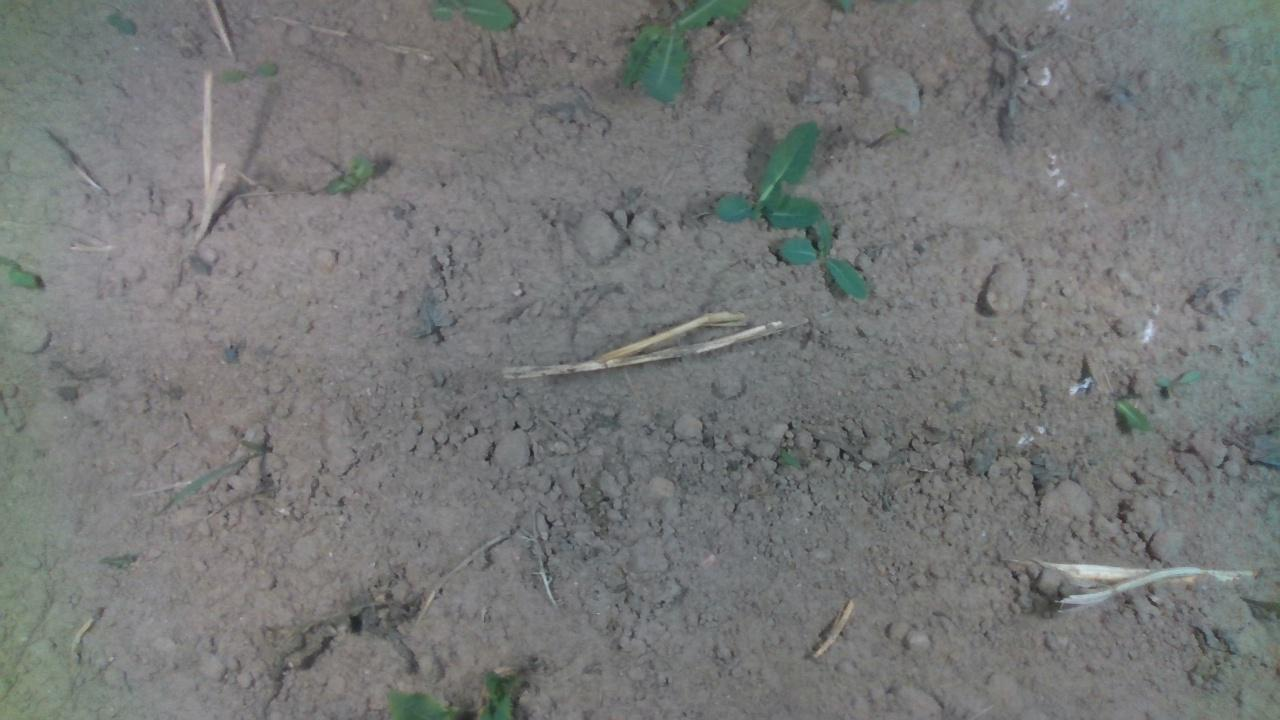weed: (1150, 368, 1200, 397)
